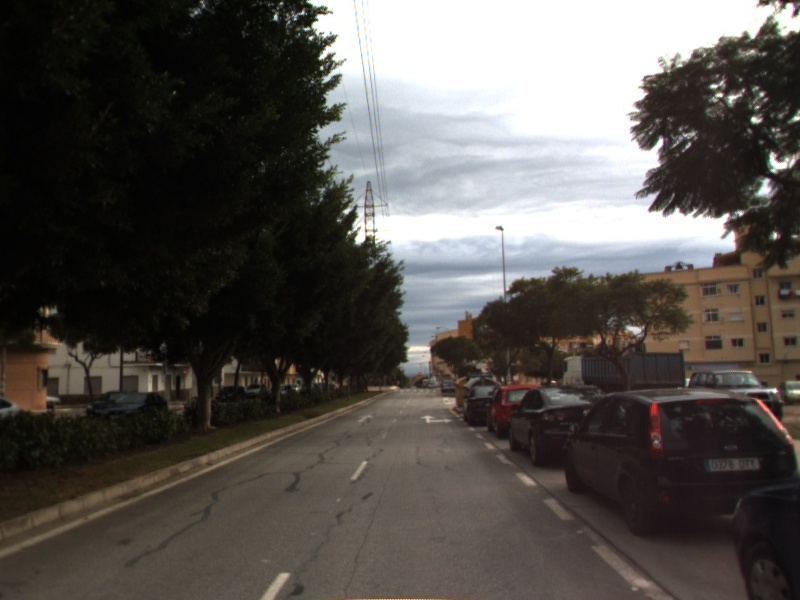STRAIGHT: (354, 412, 377, 424)
STRAIGHT_RIGHT: (418, 413, 456, 426)
